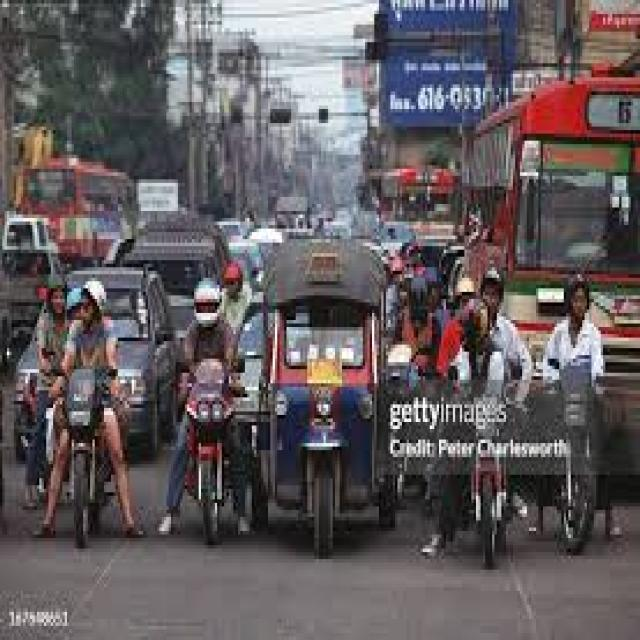bodaboda: (165, 362, 262, 572), (439, 374, 535, 568), (46, 366, 140, 555), (555, 360, 624, 565)
bus: (458, 57, 640, 348), (28, 151, 128, 256)
tuktuk: (270, 227, 384, 568)
